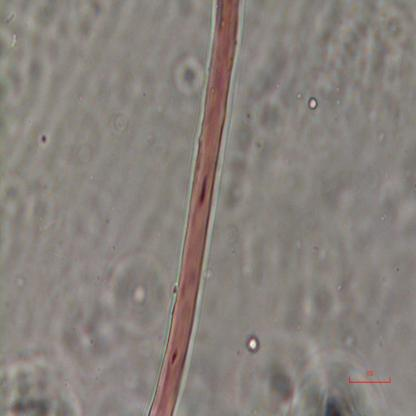Background material: (244, 336, 390, 416), (300, 274, 377, 364), (57, 286, 130, 378), (224, 94, 279, 210), (0, 350, 83, 416), (107, 243, 169, 330), (0, 0, 49, 104), (250, 40, 310, 122), (0, 166, 60, 228), (377, 150, 416, 233), (316, 24, 347, 112), (365, 14, 403, 80), (348, 0, 374, 75), (170, 49, 206, 99), (280, 283, 307, 332), (71, 0, 103, 41), (220, 222, 243, 262), (390, 46, 408, 74), (111, 107, 129, 135), (12, 267, 29, 295), (303, 94, 319, 112), (35, 131, 51, 148), (178, 1, 196, 15), (246, 335, 260, 351), (74, 92, 86, 106)
Microfibre: (146, 0, 245, 416)
